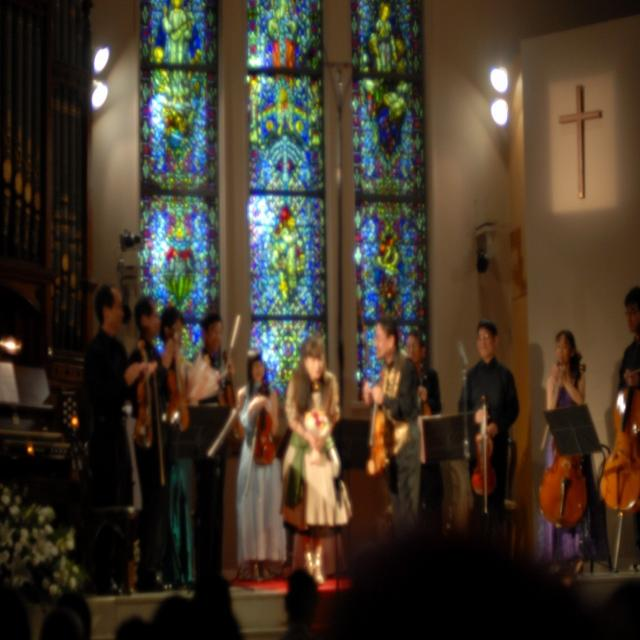cello: (538, 361, 592, 527), (595, 324, 640, 514)
violin: (165, 327, 191, 431), (472, 393, 497, 499), (133, 338, 157, 446), (366, 376, 389, 477), (220, 348, 244, 443), (257, 375, 275, 466)
